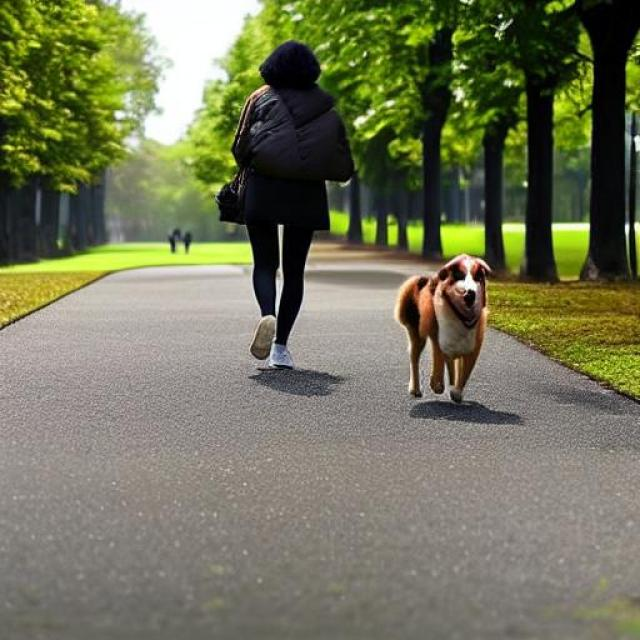Unleashed_Dog: (247, 222, 496, 402)
